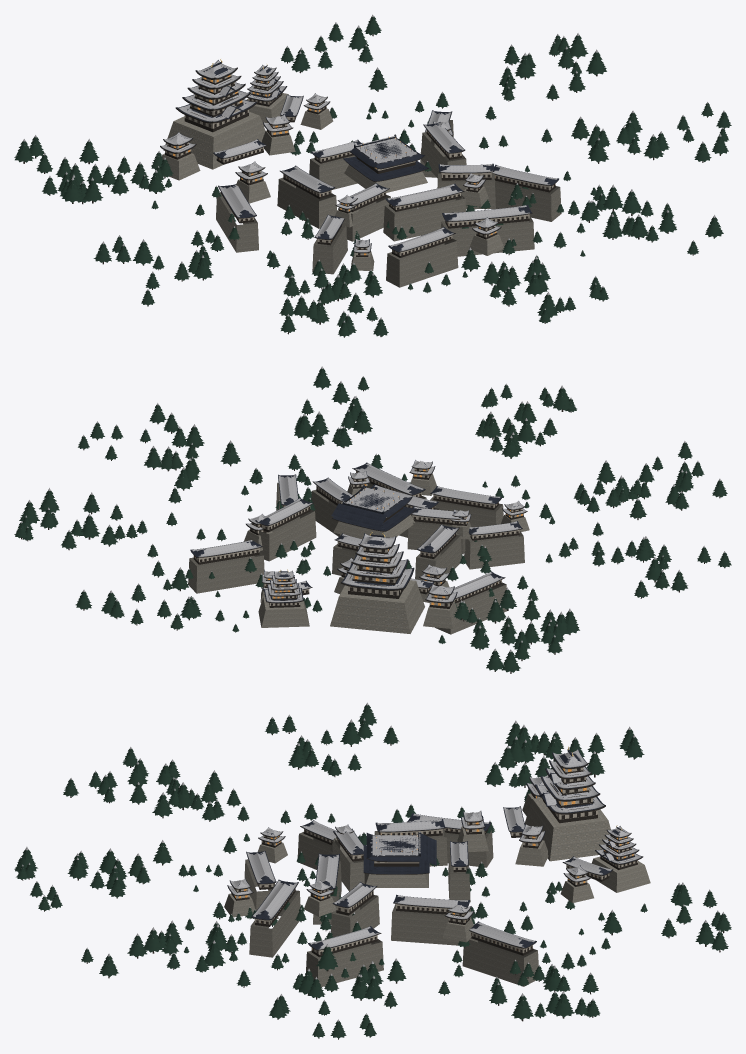
Rendered from arena.glb.
3 views of the same model, one above another, from view 1: azimuth 30°, elevation 25°; view 2: azimuth 150°, elevation 25°; view 3: azimuth 270°, elevation 25° (orthographic). The views are drawn at different scales.
Visible parts, largest first — view 1: Pines_needles, Compound_stone, Compound_snow, Castle_stone, Castle_snow, Compound_wood, Castle_wood, Compound_kawara, Compound_plaster, Castle_kawara, Roof_kawara, Compound_window (+5 smaller); view 2: Pines_needles, Compound_stone, Compound_snow, Castle_stone, Castle_snow, Compound_wood, Compound_kawara, Castle_wood, Compound_plaster, Roof_kawara, Castle_kawara, Compound_window (+5 smaller); view 3: Pines_needles, Compound_stone, Compound_snow, Castle_stone, Castle_snow, Compound_wood, Compound_kawara, Castle_wood, Roof_kawara, Castle_kawara, Compound_plaster, Pines_snow (+5 smaller).
Part boxes in pixels (x1=…): Pines_needles: x1=14, y1=16, x2=731, y2=336; Compound_stone: x1=216, y1=120, x2=561, y2=287; Compound_snow: x1=219, y1=111, x2=557, y2=252; Castle_stone: x1=161, y1=93, x2=333, y2=180; Castle_snow: x1=161, y1=60, x2=329, y2=158; Compound_wood: x1=218, y1=114, x2=558, y2=257; Castle_wood: x1=160, y1=67, x2=330, y2=164; Compound_kawara: x1=218, y1=110, x2=558, y2=252; Compound_plaster: x1=238, y1=130, x2=555, y2=255; Castle_kawara: x1=160, y1=60, x2=329, y2=158; Roof_kawara: x1=343, y1=134, x2=428, y2=181; Compound_window: x1=237, y1=130, x2=554, y2=255; Pines_needles: x1=14, y1=368, x2=731, y2=672; Compound_stone: x1=188, y1=473, x2=529, y2=634; Compound_snow: x1=192, y1=460, x2=526, y2=597; Castle_stone: x1=258, y1=576, x2=458, y2=633; Castle_snow: x1=262, y1=533, x2=456, y2=602; Compound_wood: x1=191, y1=463, x2=527, y2=603; Compound_kawara: x1=190, y1=460, x2=525, y2=598; Castle_wood: x1=262, y1=537, x2=457, y2=608; Compound_plaster: x1=193, y1=468, x2=523, y2=601; Roof_kawara: x1=331, y1=485, x2=415, y2=531; Castle_kawara: x1=262, y1=533, x2=457, y2=602; Compound_window: x1=194, y1=469, x2=522, y2=601; Pines_needles: x1=14, y1=705, x2=731, y2=1038; Compound_stone: x1=224, y1=826, x2=538, y2=986; Compound_snow: x1=228, y1=811, x2=534, y2=949; Castle_stone: x1=515, y1=793, x2=650, y2=903; Castle_snow: x1=504, y1=749, x2=641, y2=881; Compound_wood: x1=227, y1=812, x2=536, y2=957; Compound_kawara: x1=227, y1=811, x2=536, y2=949; Castle_wood: x1=503, y1=753, x2=643, y2=886; Roof_kawara: x1=363, y1=832, x2=436, y2=874; Castle_kawara: x1=503, y1=749, x2=642, y2=881; Compound_plaster: x1=234, y1=822, x2=532, y2=954; Pines_snow: x1=20, y1=702, x2=724, y2=1023.
Bounding box in the file's own units: 433 × 81.27 × 413.
22 materials, 19 textured.
